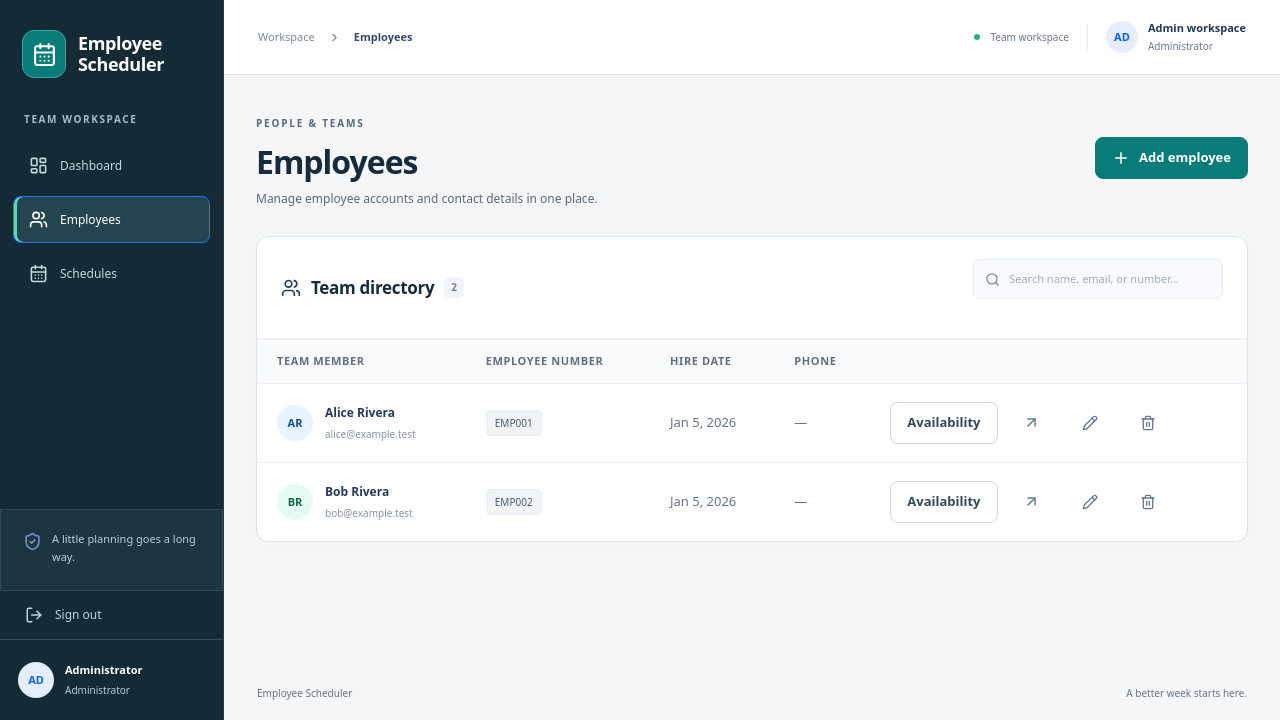
Test: logout clears cached private data and returns to login
Expected: the button named "View Alice Rivera" is shown, [1006, 402, 1056, 444]
Click the button "Sign out".
click(112, 615)  # box [0, 591, 223, 639]
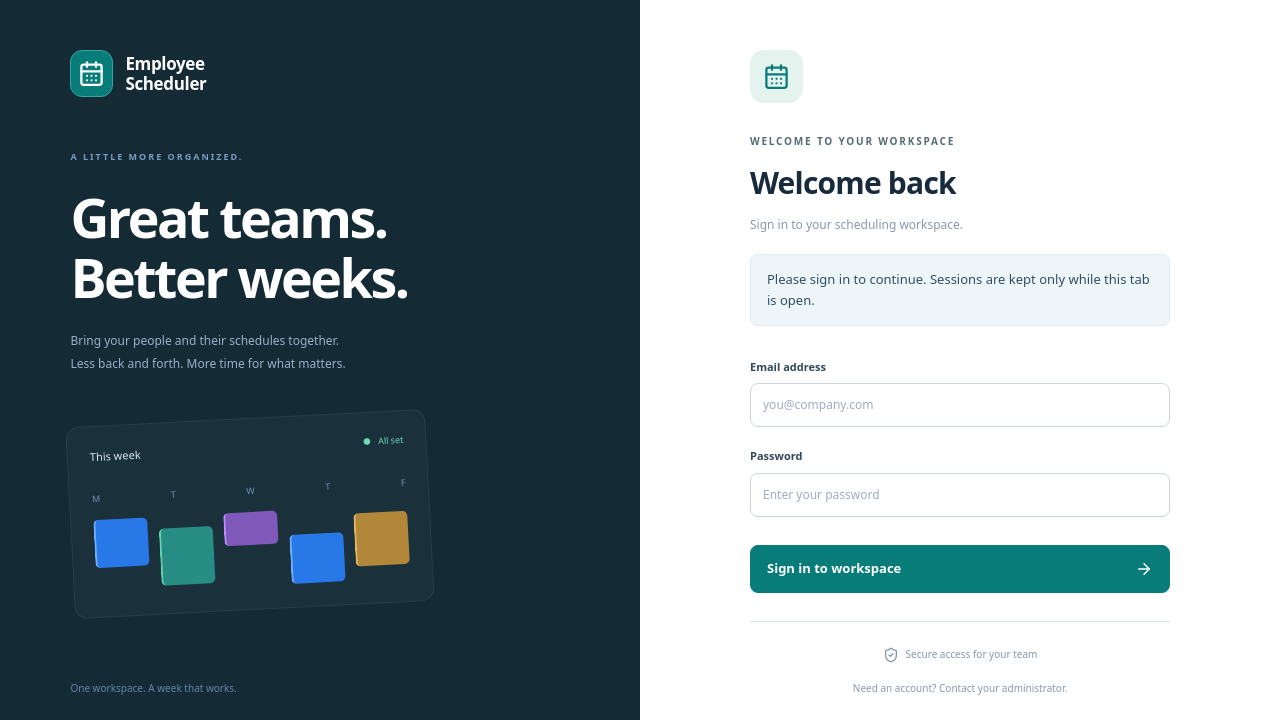
Expected: the heading "Welcome back" is shown, [750, 162, 956, 202]
